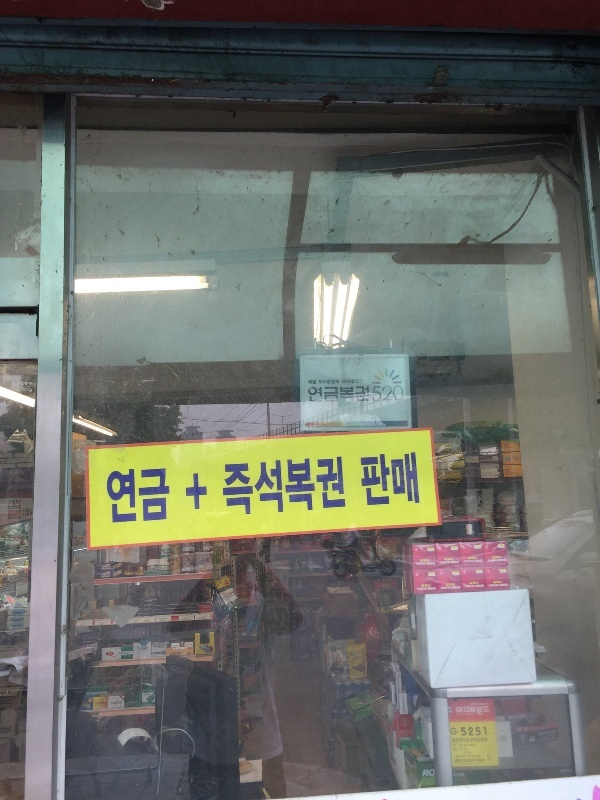text: (225, 447, 240, 523), (241, 447, 256, 523), (257, 447, 272, 523), (273, 447, 288, 523), (289, 447, 304, 523), (305, 447, 320, 523), (321, 447, 336, 523), (337, 447, 352, 523), (353, 447, 368, 523), (369, 447, 384, 523), (385, 447, 400, 523), (401, 447, 416, 523), (113, 464, 128, 533), (129, 464, 144, 533), (145, 464, 160, 533), (161, 464, 172, 533), (193, 472, 209, 516), (105, 464, 112, 533), (417, 447, 422, 523), (184, 472, 192, 516), (220, 447, 224, 523), (385, 384, 400, 404), (321, 386, 336, 403), (337, 386, 352, 403), (353, 386, 368, 403), (372, 384, 384, 404), (308, 386, 320, 403), (465, 726, 480, 738), (465, 705, 480, 716), (451, 726, 464, 738), (481, 705, 490, 716), (423, 768, 432, 779), (456, 705, 464, 716), (321, 379, 336, 384), (337, 379, 352, 384), (481, 726, 487, 738), (22, 510, 32, 517), (401, 384, 404, 404), (309, 379, 320, 384), (353, 379, 363, 384), (9, 502, 16, 508), (9, 513, 16, 517), (17, 502, 21, 508), (433, 768, 435, 779), (369, 386, 370, 403), (17, 513, 19, 517)
